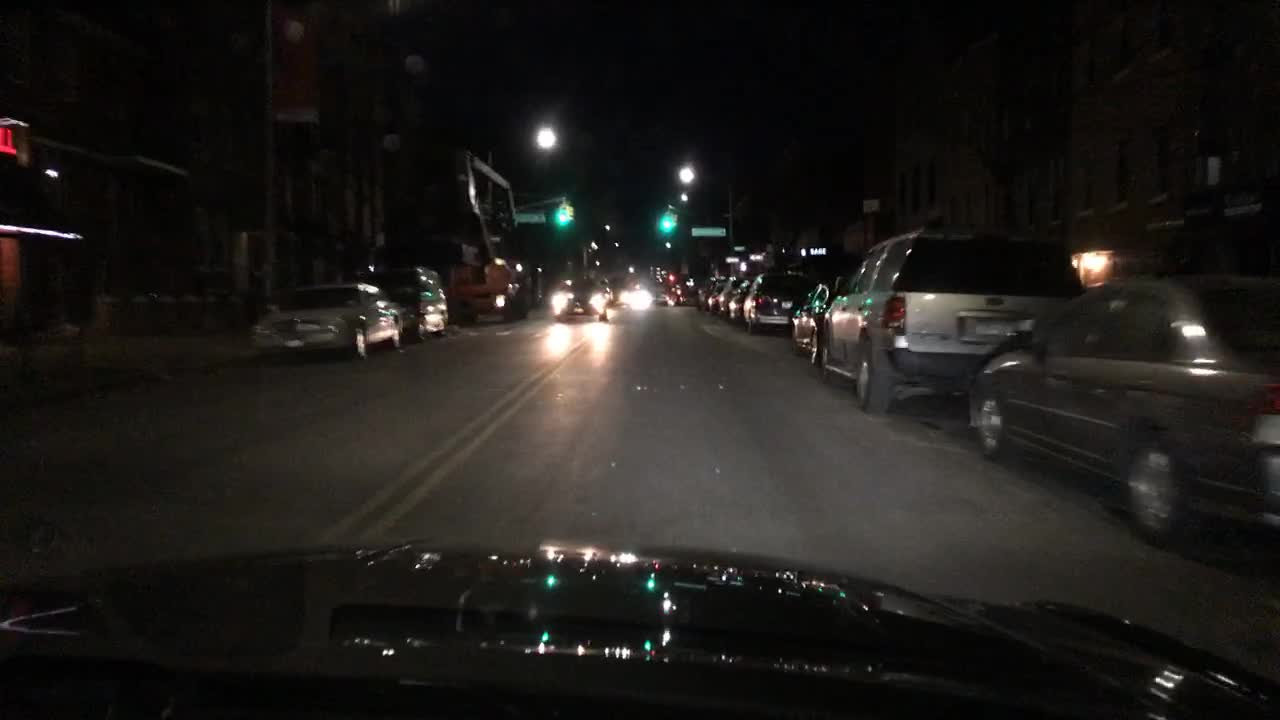car: (964, 269, 1279, 541), (818, 228, 1087, 416), (245, 281, 407, 361), (357, 266, 458, 342), (786, 273, 844, 358), (741, 268, 810, 334), (547, 276, 610, 325), (725, 275, 757, 323), (712, 274, 739, 316), (702, 273, 725, 311), (691, 275, 717, 308), (593, 274, 617, 309), (667, 278, 691, 308), (607, 272, 625, 304), (649, 279, 667, 303)
traffic light: (664, 203, 673, 231), (564, 201, 574, 221), (554, 211, 567, 226)
traffic sign: (690, 226, 725, 236), (514, 212, 547, 222), (728, 244, 748, 251), (748, 251, 763, 260), (722, 256, 739, 263)
truck: (436, 149, 532, 328)
